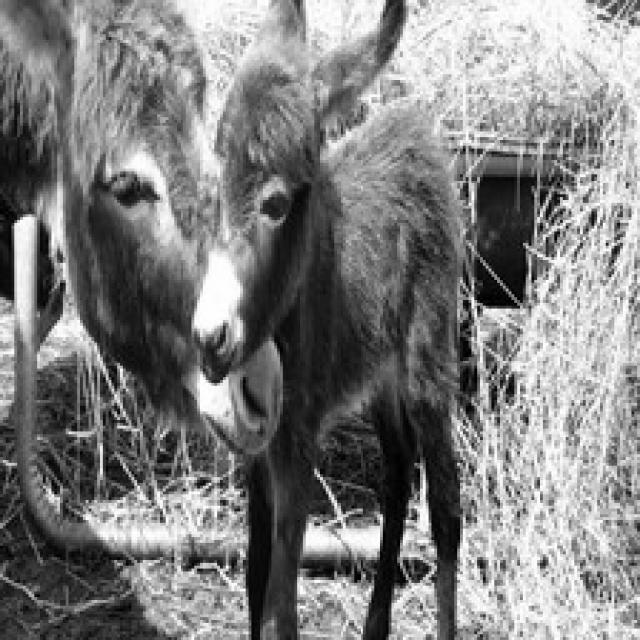Donkey: (188, 0, 472, 637), (0, 0, 217, 443), (0, 0, 83, 637)
